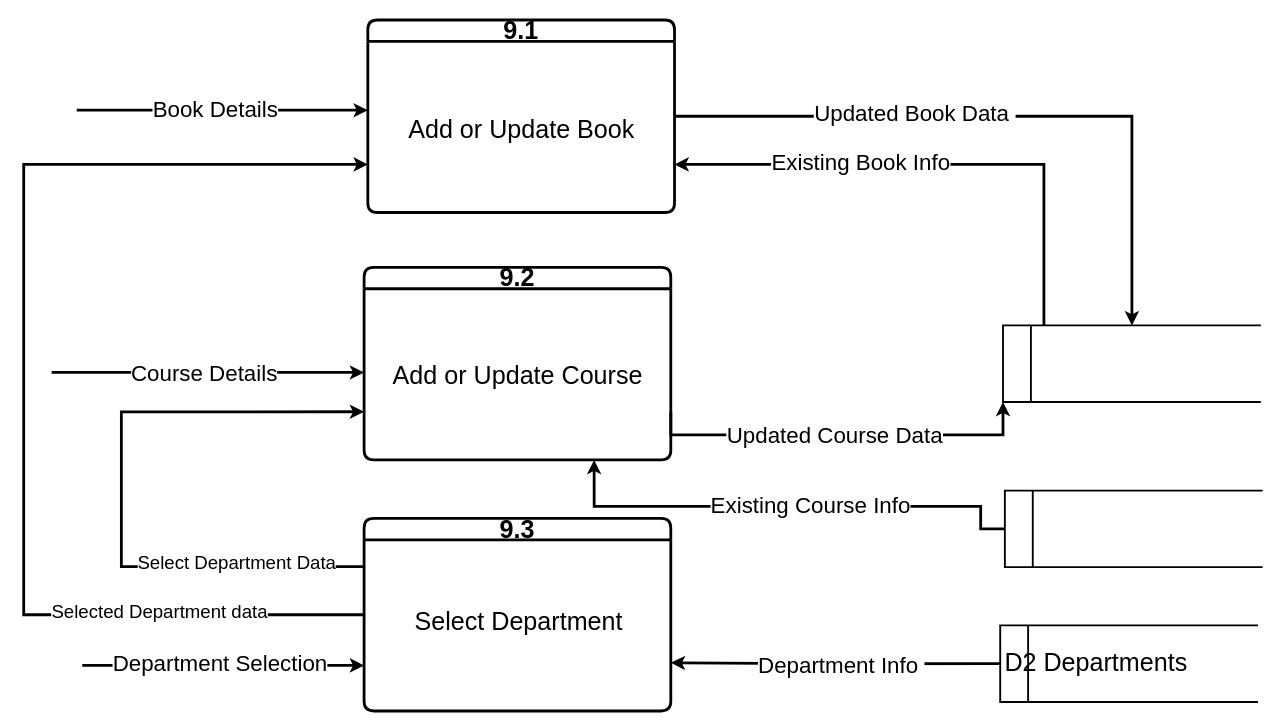
This 1280x728 diagram has some shape labels left out. The shapes that lost their labels are listed below. From the top down, each one's centre as x and y in pixels, then its label:
At (x=1131, y=363): "D5 Books".
At (x=1133, y=528): "D4 Courses".
